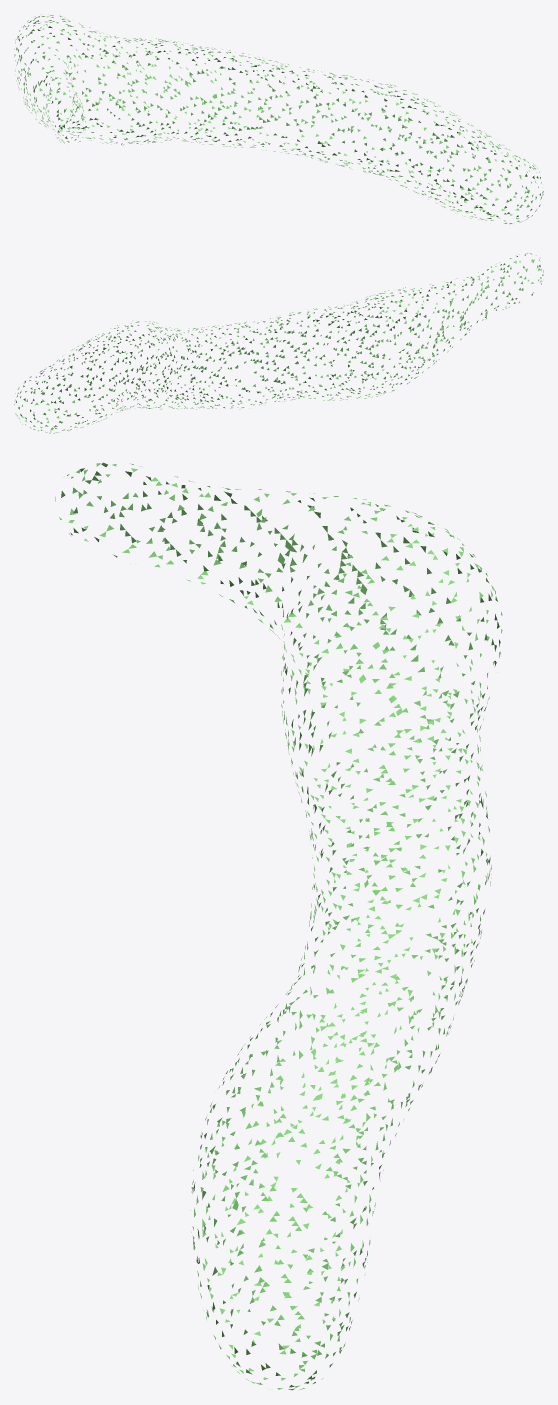
File: morph_016.glb
The picture shows the model from 3 angles, top to bottom: view 1: azimuth 30°, elevation 25°; view 2: azimuth 150°, elevation 25°; view 3: azimuth 270°, elevation 25°; orthographic projection. The views are drawn at different scales.
Size of the model in its own units: 108 by 54.76 by 44.17.
